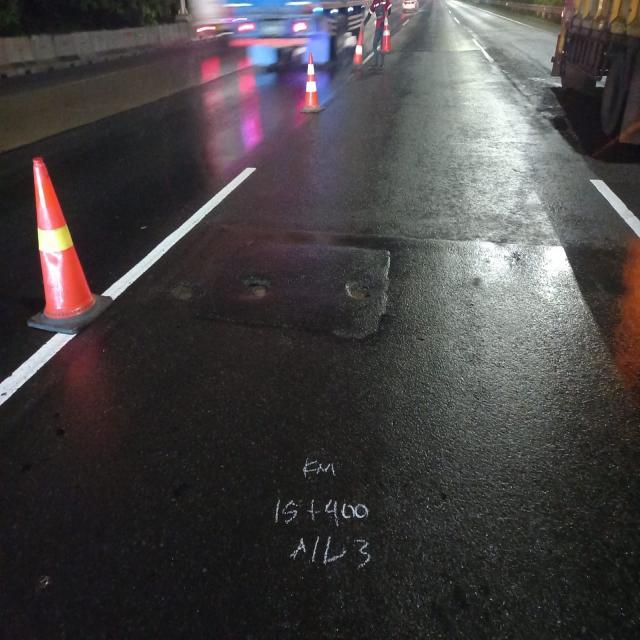Buraco: (340, 273, 386, 304), (165, 278, 206, 306), (238, 274, 278, 300)
